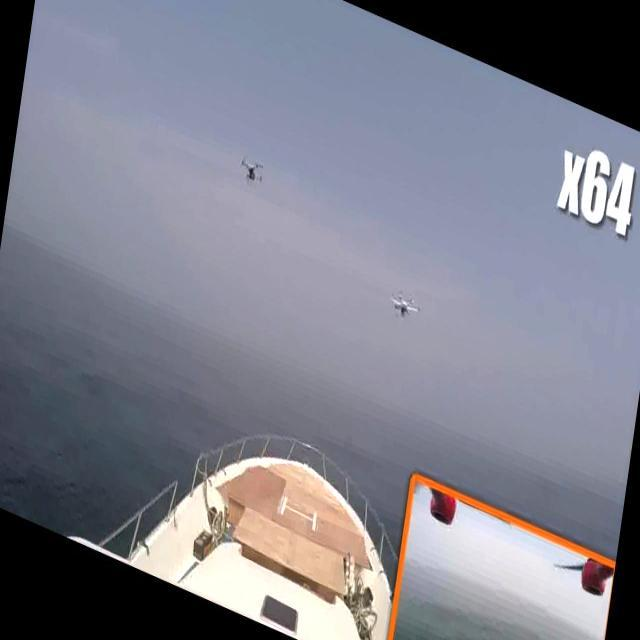drone: (381, 272, 427, 334), (233, 143, 271, 197)
